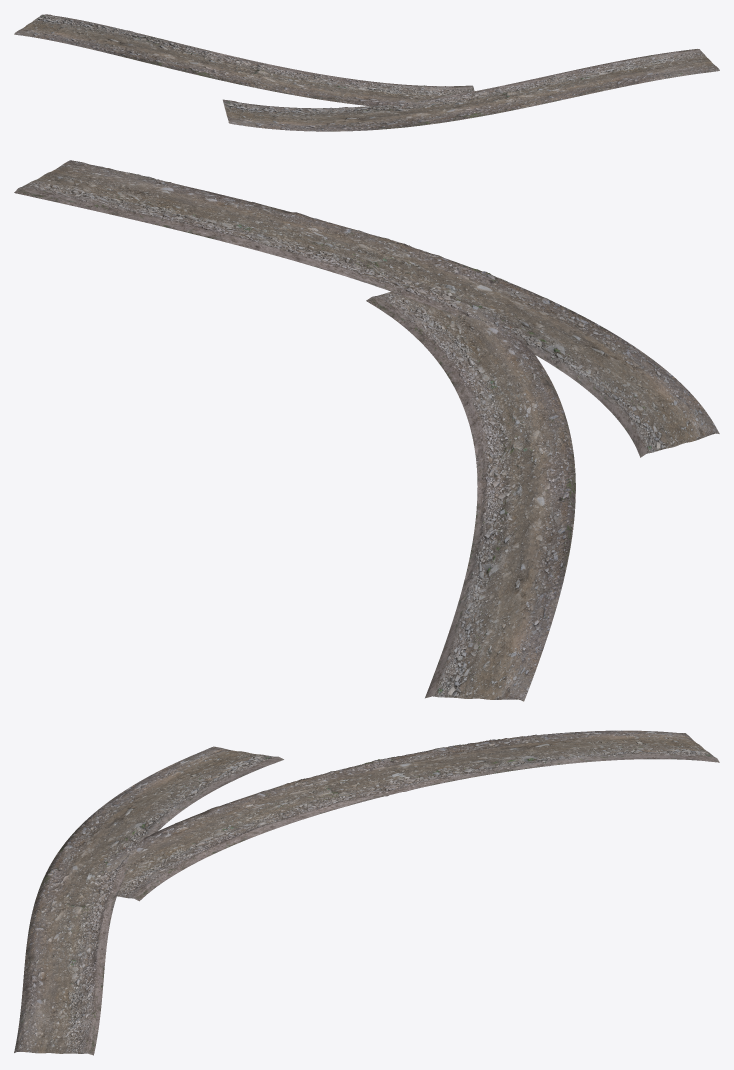
Rendered from SM_PathRocky_01_01_Splines_1.fbx.
3 renders of one model, top to bottom at view 1: azimuth 30°, elevation 25°; view 2: azimuth 150°, elevation 25°; view 3: azimuth 270°, elevation 25°, orthographic. The views are drawn at different scales.
Visible parts, largest first — view 1: sm_PathRocky_01_01_Splines_1_LOD0; view 2: sm_PathRocky_01_01_Splines_1_LOD0; view 3: sm_PathRocky_01_01_Splines_1_LOD0.
Boxes of the visible parts, x1,y1,x2,y2 form: sm_PathRocky_01_01_Splines_1_LOD0: [14, 14, 719, 131]; sm_PathRocky_01_01_Splines_1_LOD0: [14, 160, 719, 701]; sm_PathRocky_01_01_Splines_1_LOD0: [14, 730, 719, 1055].
Bounding box in the file's own units: 4781 × 5527 × 245.
